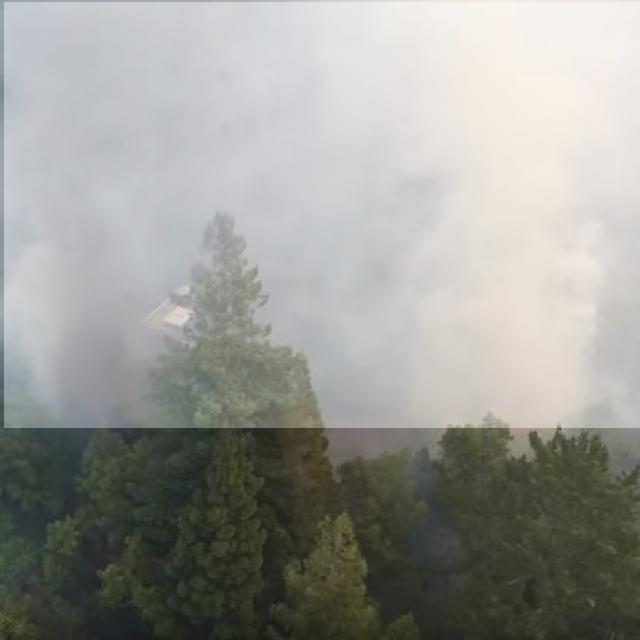Smoke: (4, 2, 640, 428)
